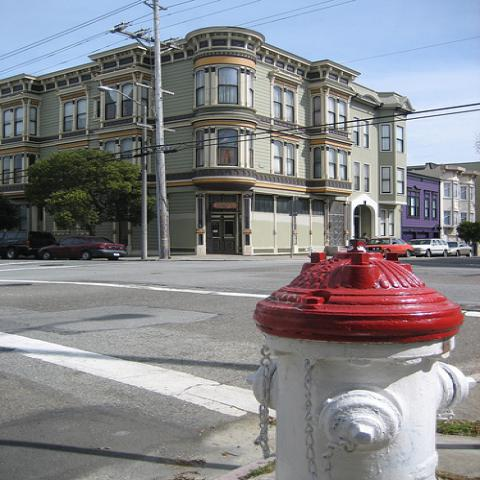car: (39, 236, 126, 262), (0, 231, 57, 260), (365, 236, 415, 257), (409, 238, 451, 258), (446, 241, 474, 258)
